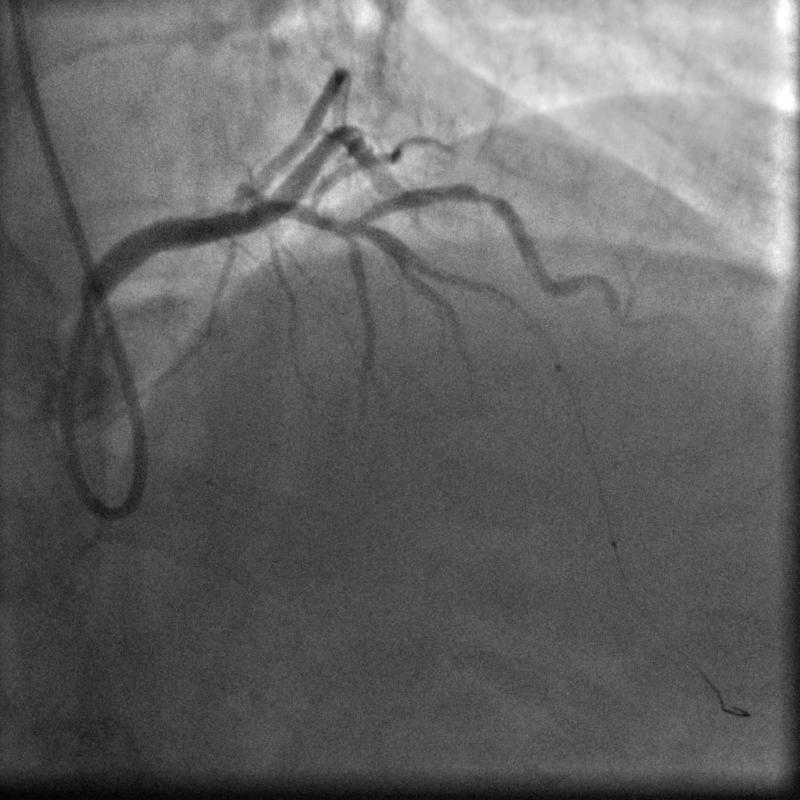Stenosis: (458, 177, 504, 225)
